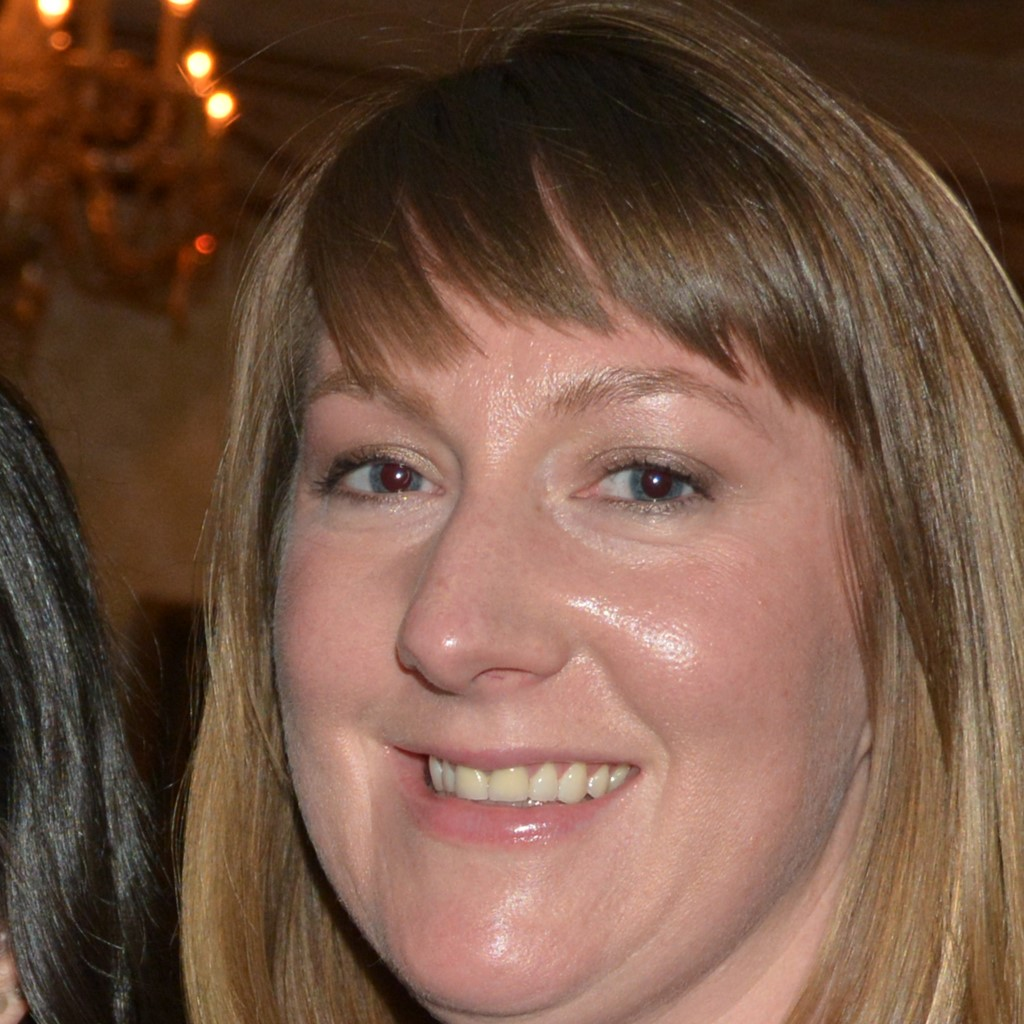sin_mascara: (288, 196, 884, 1014)
